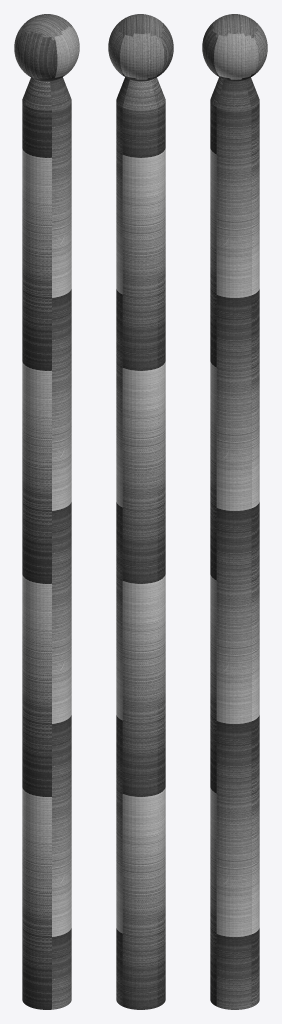
The model's file is flagpole2.obj.
3 renders of one model, left to right at view 1: azimuth 30°, elevation 25°; view 2: azimuth 150°, elevation 25°; view 3: azimuth 330°, elevation 25°, orthographic.
Visible parts, largest first — view 1: Default; view 2: Default; view 3: Default.
Part boxes in pixels (box(x1,y1,x2,y2)): Default: box(14, 14, 79, 1009); Default: box(108, 14, 173, 1009); Default: box(202, 14, 267, 1009).
Size of the model in its own units: 2.68 by 43.93 by 2.59.
Materials: 1 (1 with a texture image).
